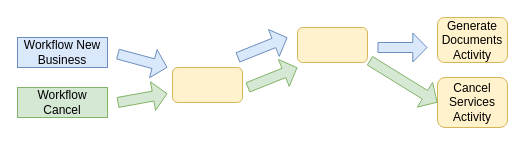
This 525x145 diagram has some shape labels left out. The centre of each missing label's shape, as x and y in pixels:
Rate Activity: (x=332, y=44)
Validate Activity: (x=207, y=84)
